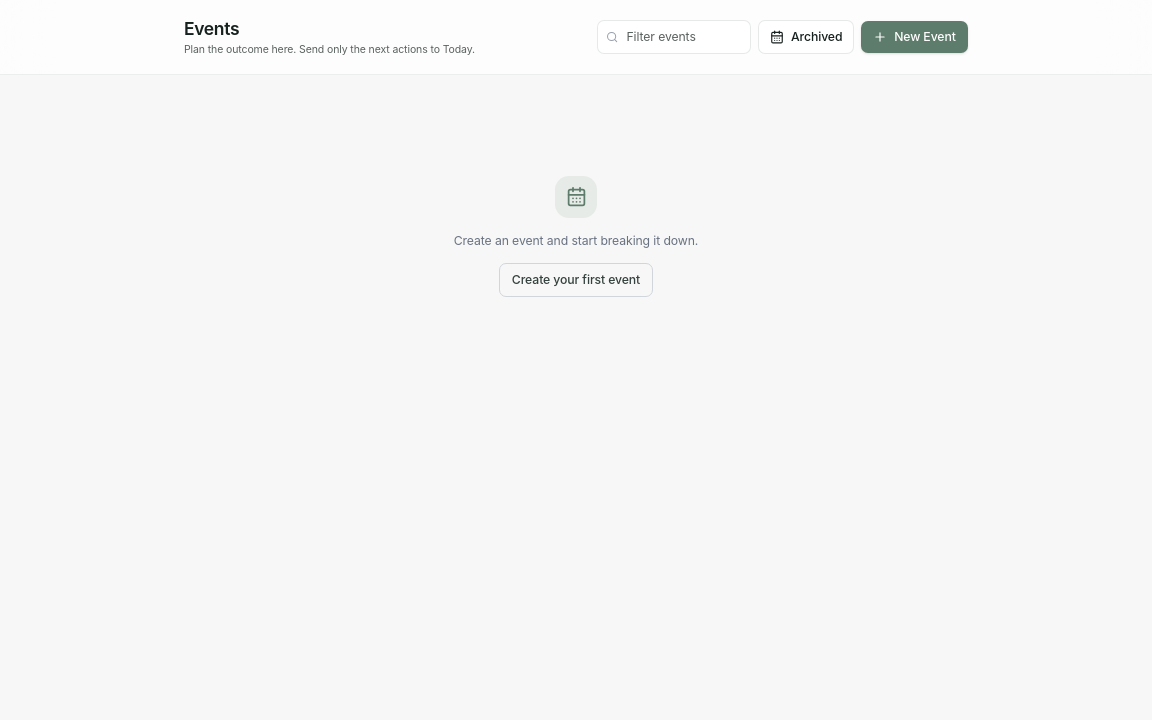
EventsView Event-first surface › creates from title and immediately opens the one-canvas detail
The width and height of the screenshot is (1152, 720).
Click the button with test id "new-event-button". click: (914, 37)
box: [861, 21, 968, 53]
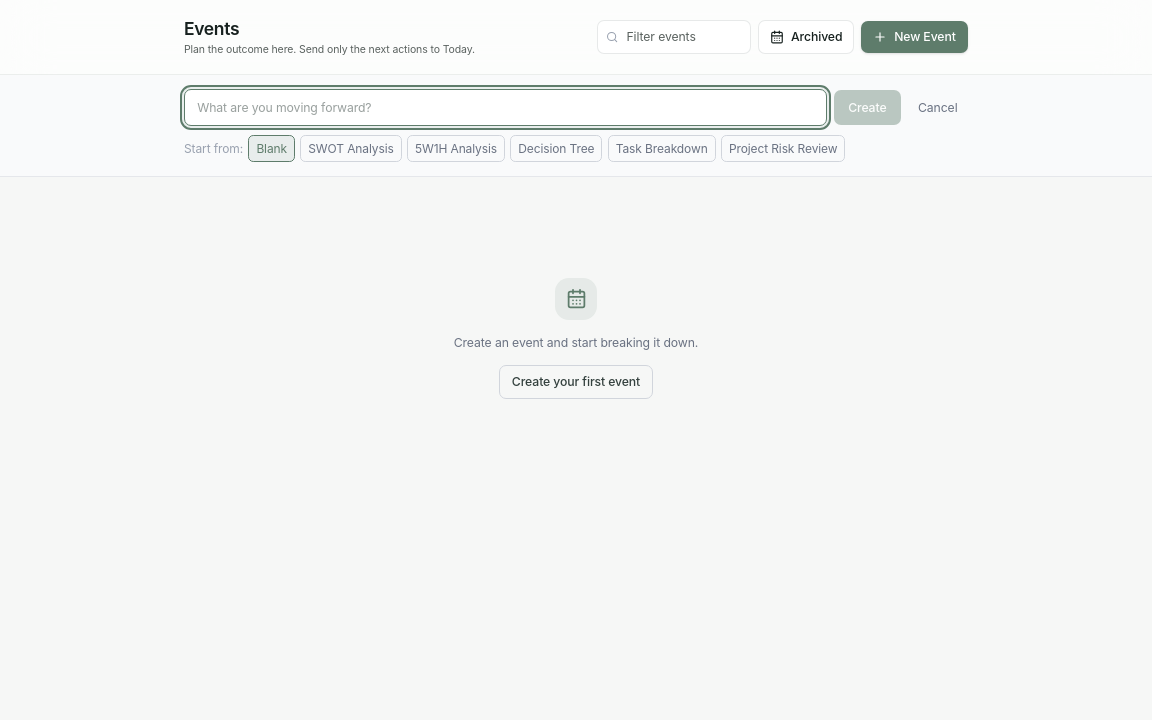
Type "Investor update" into the field labelled "What are you moving forward?". click: (506, 108)
box: [184, 89, 827, 126]
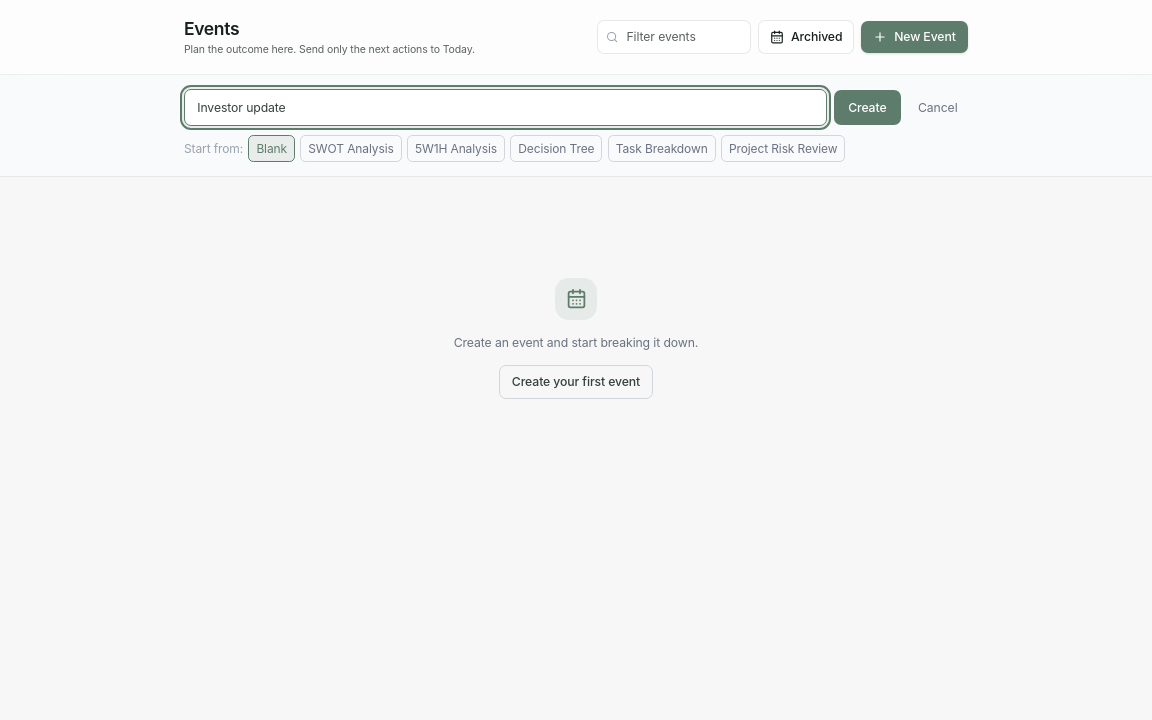
Click the button "Create". click: (867, 108)
box: [834, 90, 900, 125]
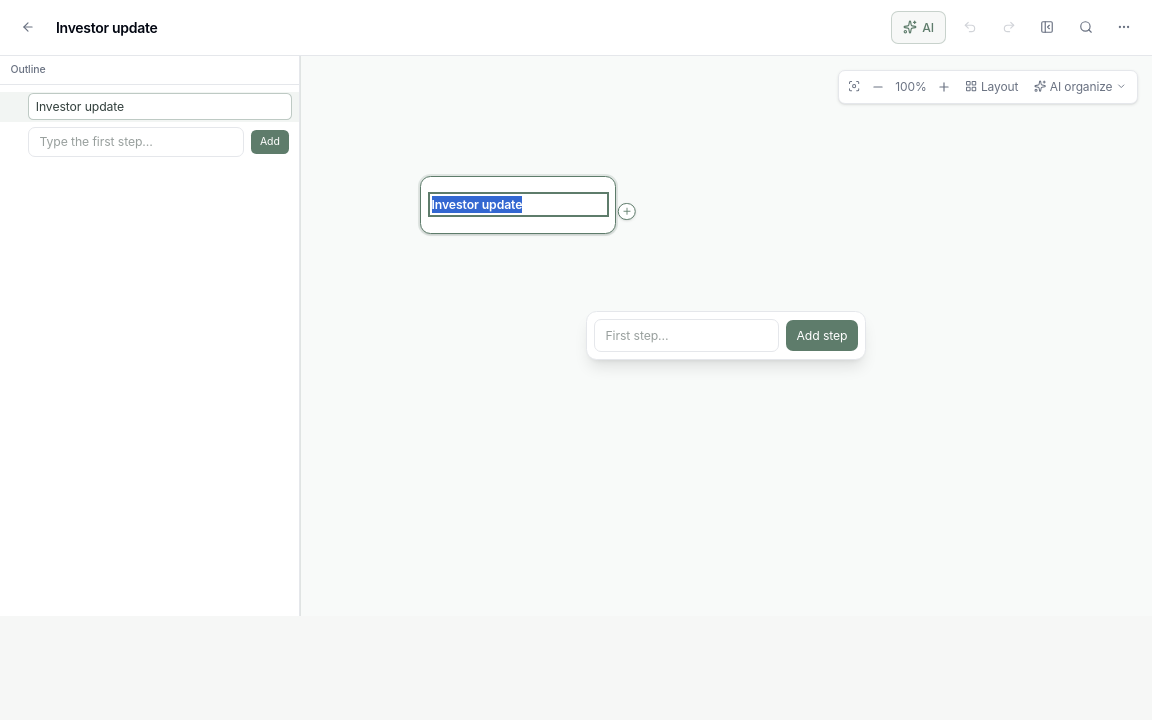
Check: the element with test id "event-detail" is shown
Check: the number of elements with test id "event-canvas" is 1, box [300, 56, 1151, 616]
